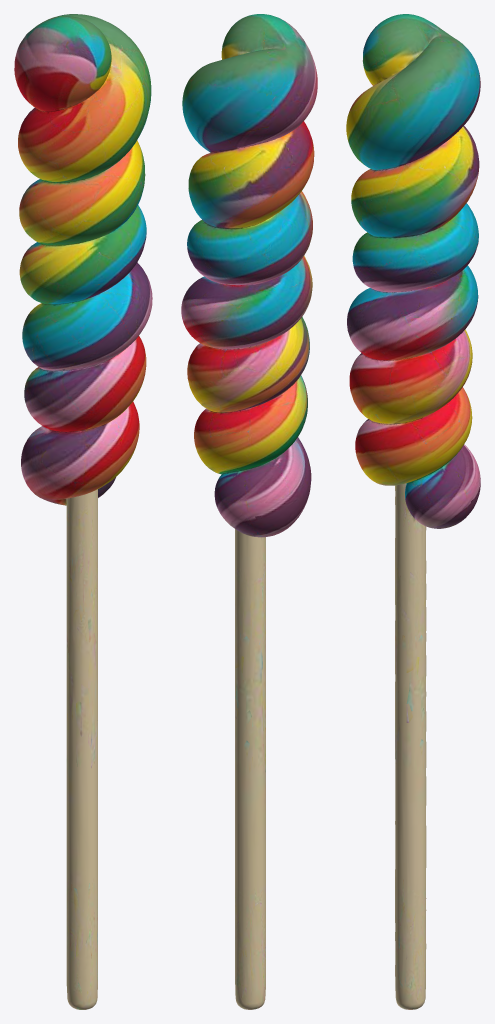
The picture shows the model from 3 angles, left to right: view 1: azimuth 30°, elevation 25°; view 2: azimuth 210°, elevation 25°; view 3: azimuth 270°, elevation 25°; orthographic projection.
Size of the model in its own units: 0.2343 by 1.9 by 0.2364.
1 material, 1 textured.
